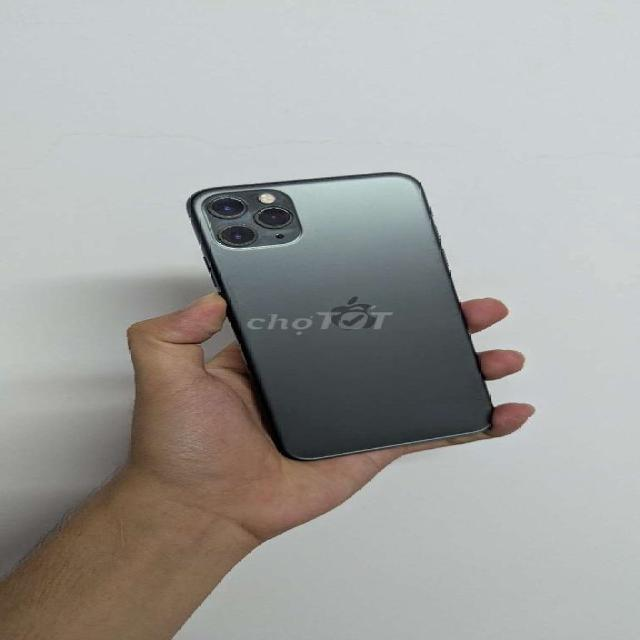gen_11: (188, 172, 492, 460)
